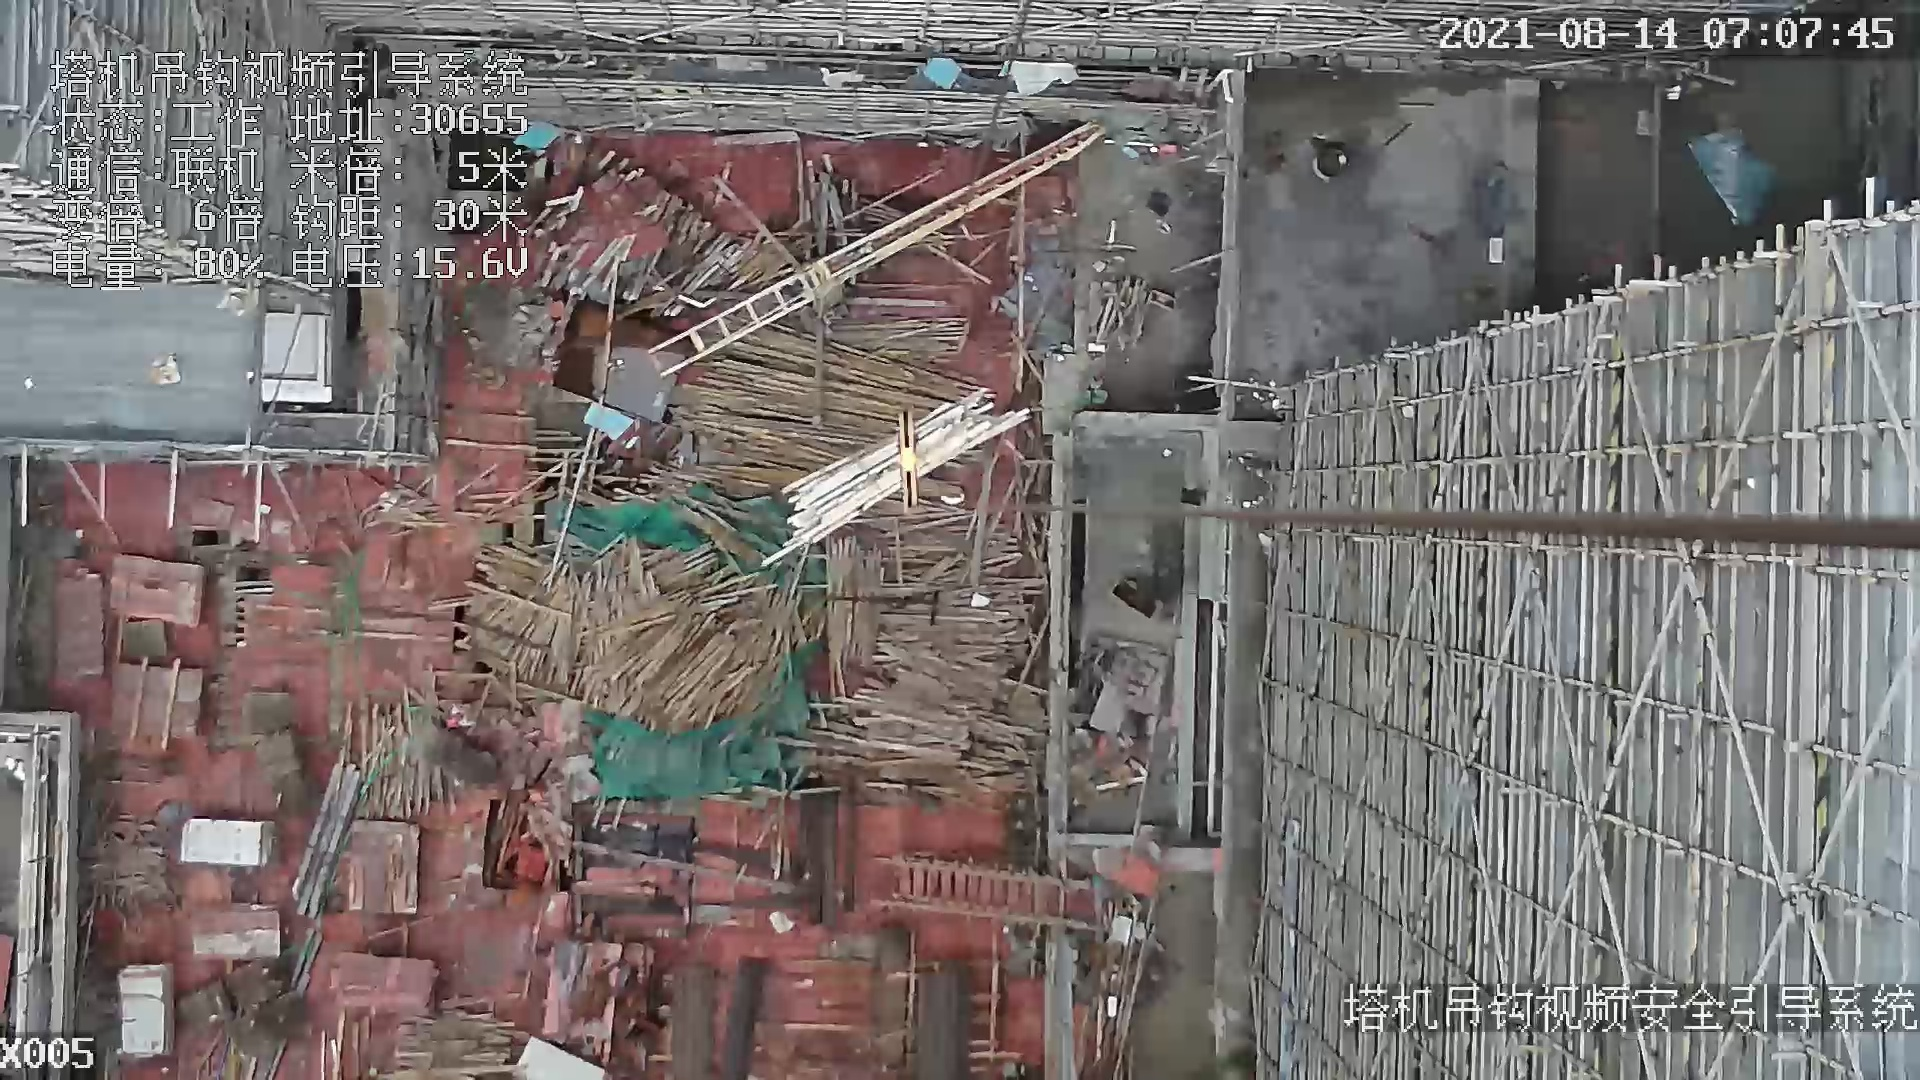hook: (891, 409, 928, 512)
